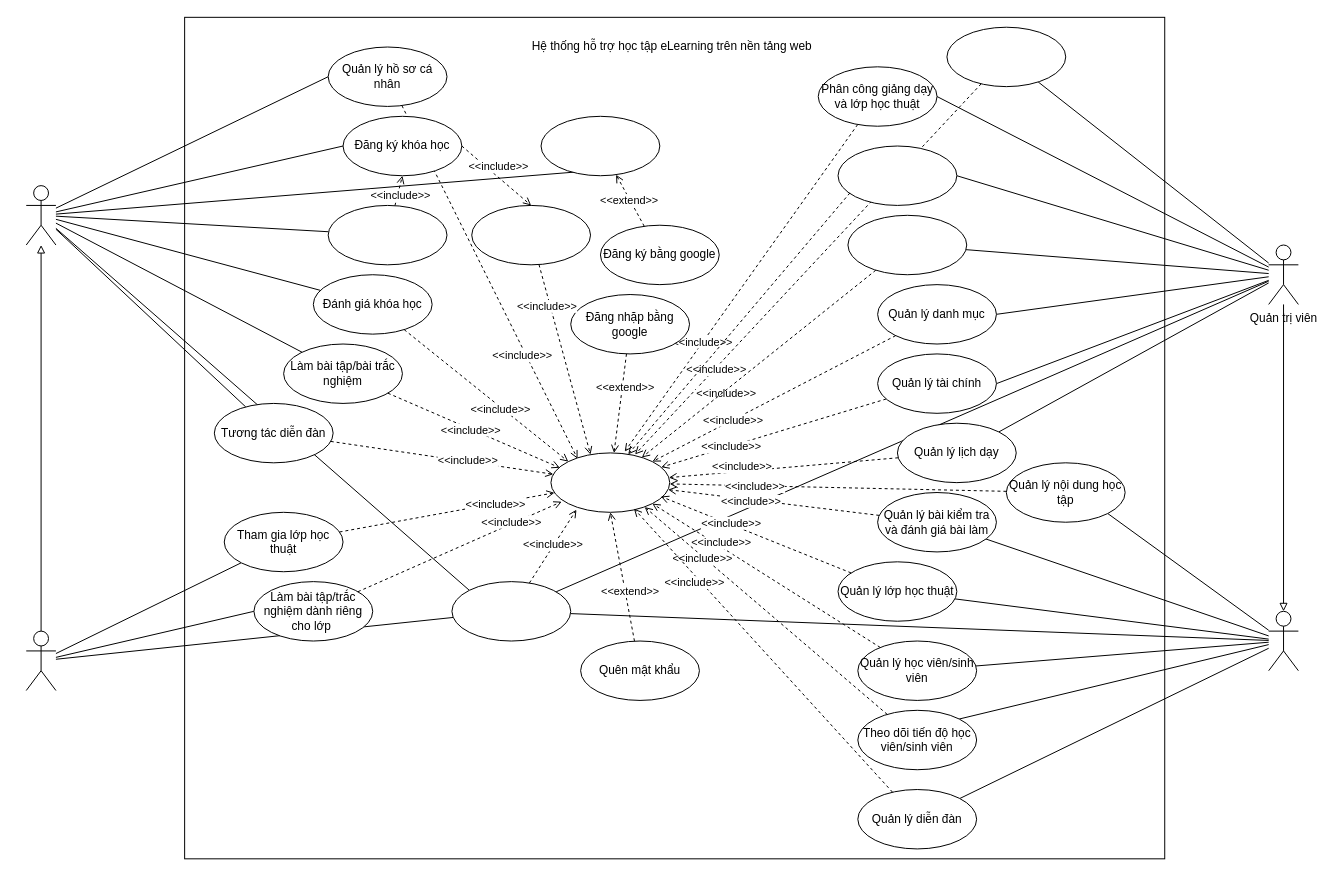
Image size: 1335x876. Some labels were removed from this diagram. The shapes that lost their labels are listed below. From the top down, each one's centre as x and y in pixels, then its label:
At point 1006,56: "Quản lý khóa học".
At point 600,145: "Đăng ký tài khoản".
At point 897,175: "Quản lý người dùng".
At point 40,215: "Học viên".
At point 387,234: "Tham gia khóa học".
At point 531,234: "Thanh toán ZaloPay".
At point 907,244: "Báo cáo thống kê".
At point 610,482: "Đăng nhập".
At point 511,611: "Tương tác với chatbot".
At point 40,660: "Sinh viên".
At point 1283,640: "Giảng viên".
